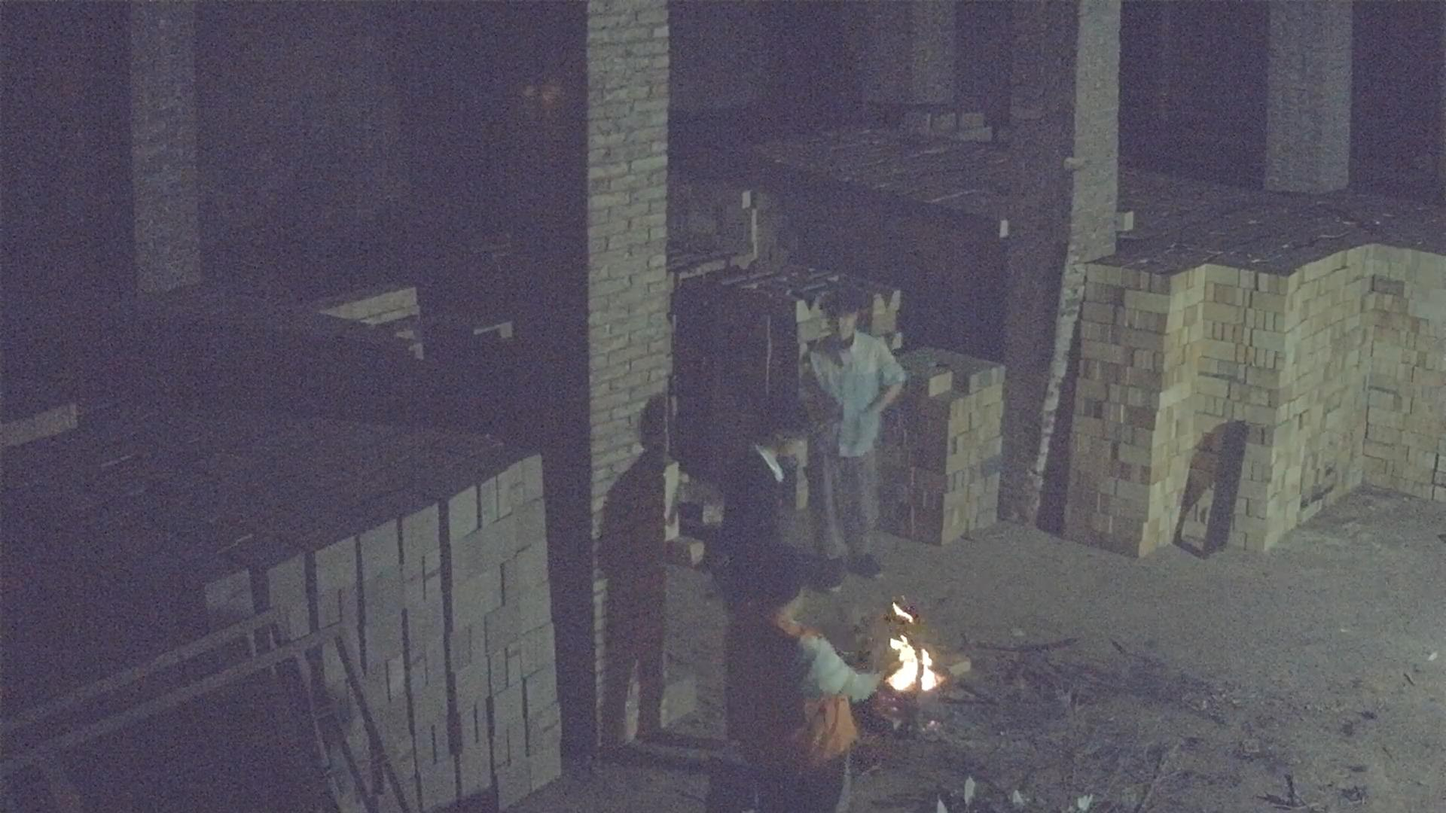fire: (886, 635, 944, 693), (893, 604, 913, 622)
